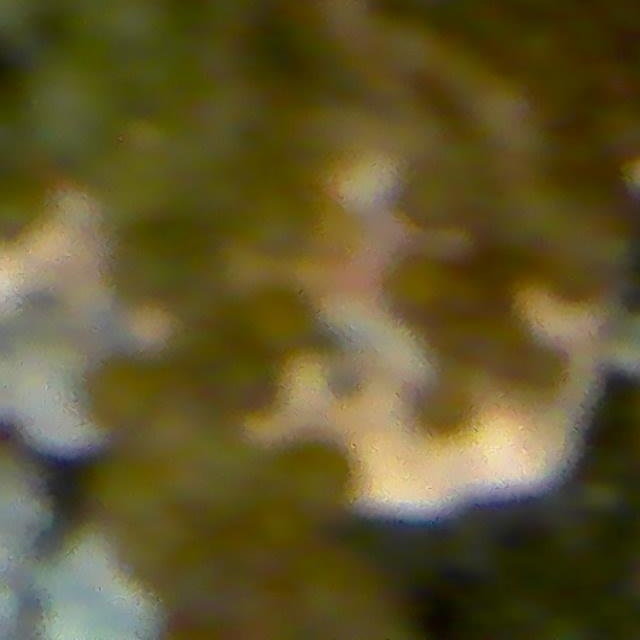SeaGrape: (22, 48, 124, 162), (382, 253, 479, 336), (284, 437, 355, 518), (94, 0, 180, 57), (213, 348, 283, 418), (246, 190, 315, 261), (400, 166, 472, 229), (409, 376, 472, 443), (511, 339, 569, 398)
